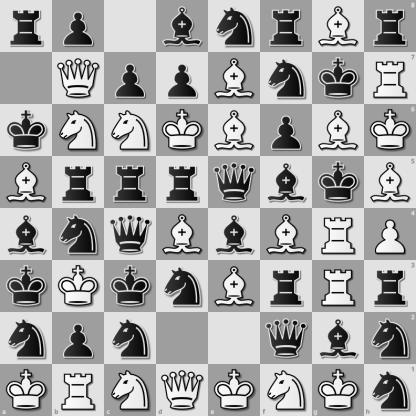B: (364, 156, 416, 209), (1, 157, 52, 208), (157, 209, 208, 260), (209, 53, 260, 104), (209, 105, 260, 156), (209, 261, 260, 312), (261, 209, 312, 260), (313, 1, 364, 52), (313, 105, 364, 156)
K: (0, 364, 52, 416), (312, 364, 364, 416), (364, 104, 416, 156), (209, 364, 260, 416), (53, 261, 104, 312), (157, 105, 208, 156)
N: (104, 364, 156, 416), (260, 364, 312, 416), (53, 105, 104, 156), (105, 105, 156, 156)
P: (364, 209, 416, 260)
Q: (156, 364, 209, 416), (53, 53, 104, 104)
R: (52, 364, 104, 416), (364, 52, 416, 104), (313, 209, 364, 260), (313, 261, 364, 312)
b: (1, 209, 52, 260), (157, 1, 208, 52), (209, 209, 260, 260), (261, 157, 312, 208), (313, 313, 364, 364)
board: (0, 0, 415, 415)
k: (1, 105, 52, 156), (1, 261, 52, 312), (105, 261, 156, 312), (313, 53, 364, 104), (313, 157, 364, 208)
n: (364, 312, 416, 364), (364, 364, 416, 416), (1, 313, 52, 364), (53, 209, 104, 260), (105, 313, 156, 364), (157, 261, 208, 312), (209, 1, 260, 52), (261, 53, 312, 104)
p: (53, 1, 104, 52), (53, 313, 104, 364), (105, 53, 156, 104), (157, 53, 208, 104), (261, 105, 312, 156)
q: (105, 209, 156, 260), (209, 157, 260, 208), (261, 313, 312, 364)
r: (364, 0, 416, 52), (364, 260, 416, 312), (1, 1, 52, 52), (53, 157, 104, 208), (105, 157, 156, 208), (157, 157, 208, 208), (261, 1, 312, 52), (261, 261, 312, 312)
